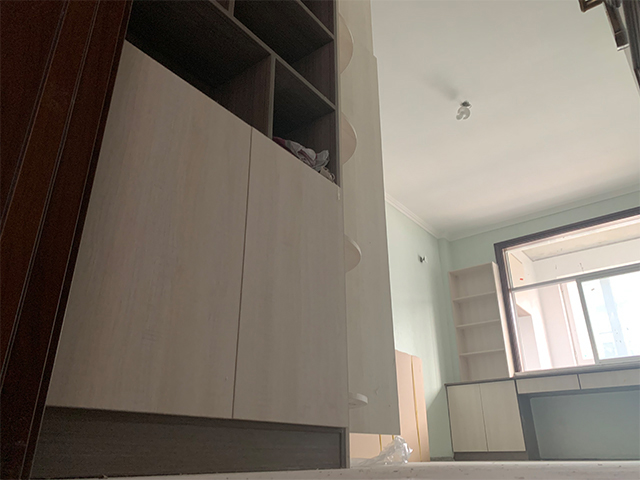cabinet: (49, 39, 391, 478)
table: (444, 357, 640, 460)
